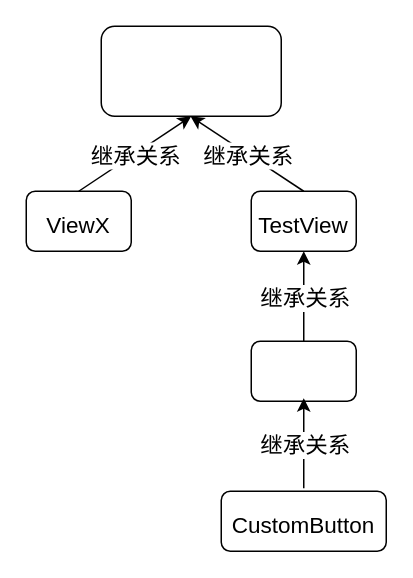
Image size: 413x578. Some labels were removed from this diagram. Each missing label, with the box of its shape:
Button: (250, 340, 356, 401)
View: (100, 25, 281, 116)
